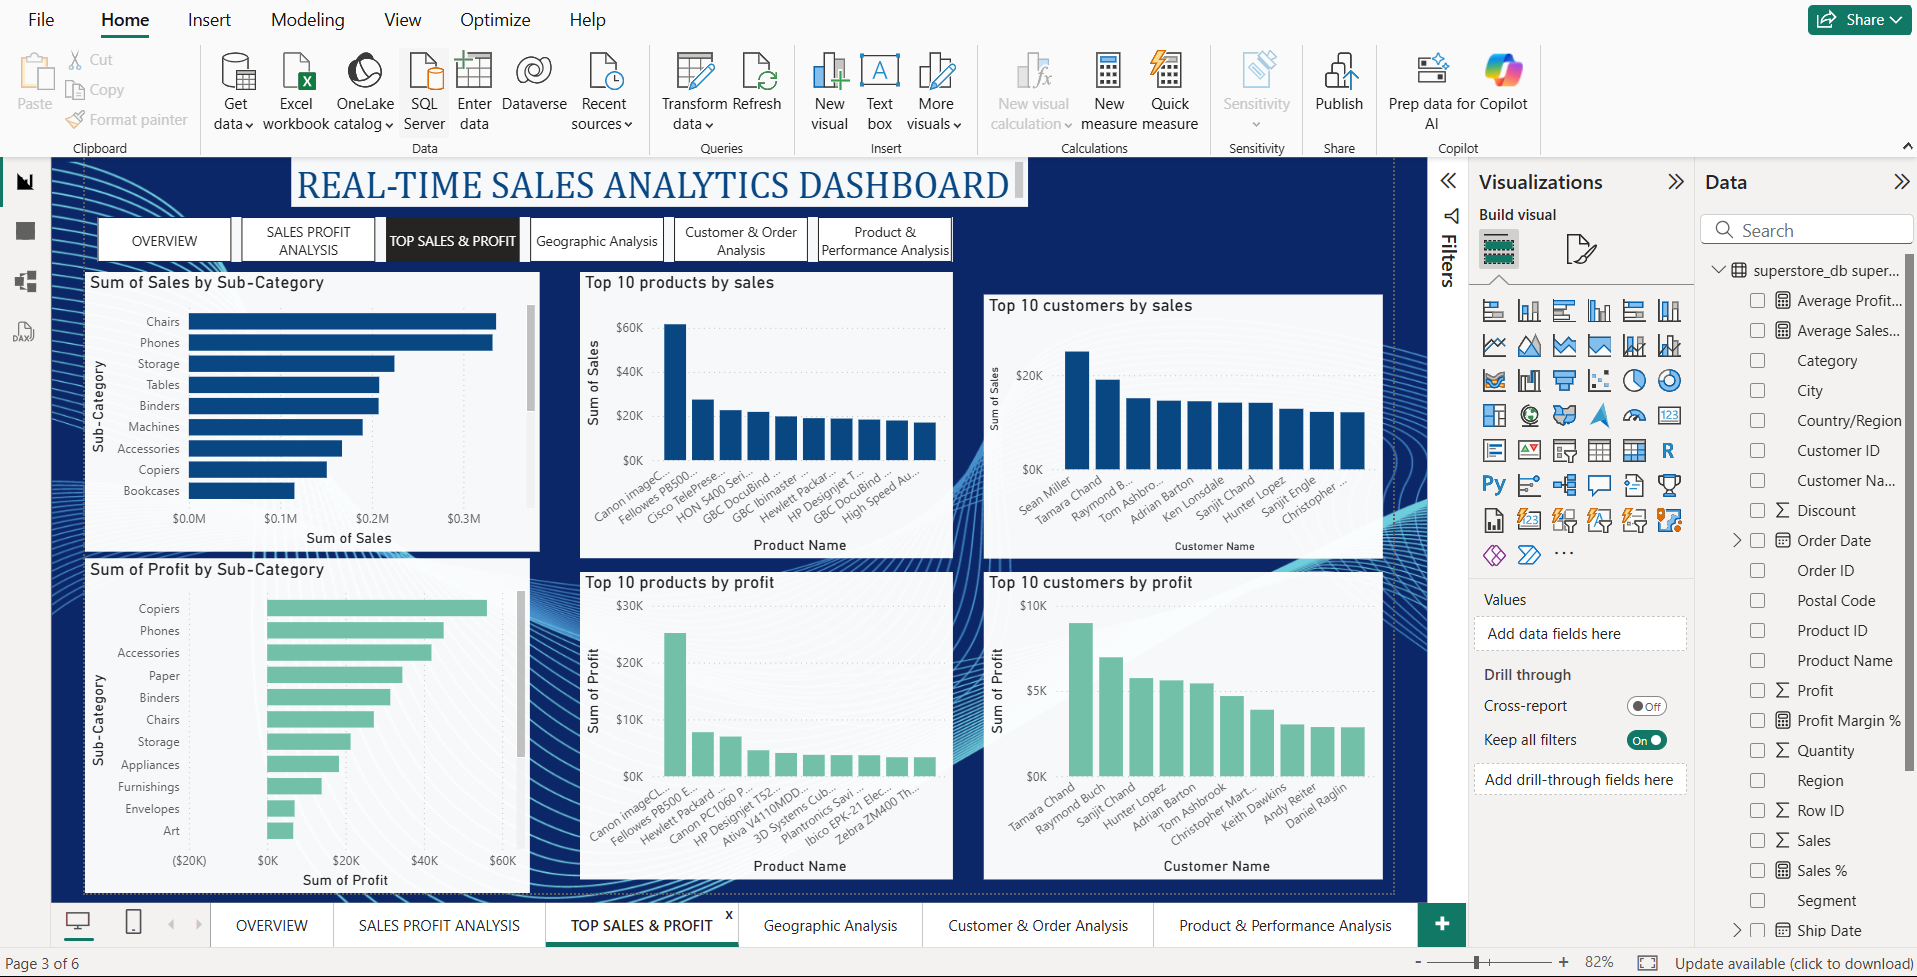

The page's visual inventory and layout, read from the dashboard file:
{"tool":"powerbi","page":{"name":"TOP SALES & PROFIT","canvas":[1280,720],"ordinal":2},"visuals":[{"type":"clusteredBarChart","fields":{"Category":["superstore_db superstore.Sub-Category"],"Y":["Sum(superstore_db superstore.Profit)"]},"box":[0,392.5,435.3,327.7],"z":0},{"type":"clusteredColumnChart","title":"Top 10 products by profit","fields":{"Category":["superstore_db superstore.Product Name"],"Y":["Sum(superstore_db superstore.Profit)"]},"box":[484.2,406,364.4,300.8],"z":1000},{"type":"clusteredBarChart","fields":{"Category":["superstore_db superstore.Sub-Category"],"Y":["Sum(superstore_db superstore.Sales)"]},"box":[0,112.5,445.1,273.9],"z":2000},{"type":"clusteredColumnChart","title":"Top 10 products by sales","fields":{"Category":["superstore_db superstore.Product Name"],"Y":["Sum(superstore_db superstore.Sales)"]},"box":[484.2,112.5,364.4,280],"z":3000},{"type":"clusteredColumnChart","title":"Top 10 customers by sales","fields":{"Category":["superstore_db superstore.Customer Name"],"Y":["Sum(superstore_db superstore.Sales)"]},"box":[879.2,134.5,390.1,258],"z":4000},{"type":"clusteredColumnChart","title":"Top 10 customers by profit","fields":{"Category":["superstore_db superstore.Customer Name"],"Y":["Sum(superstore_db superstore.Profit)"]},"box":[879.2,406,390.1,300.8],"z":5000},{"type":"textbox","box":[201.2,0,720.7,48.8],"z":6000},{"type":"pageNavigator","box":[12.2,58.7,836.4,44],"z":7000}]}

Visuals, with their boxes on the page's 1280x720 design canvas (x1, y1, x2, y2). These are canvas units, not pixel positions in the 1917x977 screenshot, which may show the page scaled, cropped or inside an application window:
clusteredBarChart - superstore_db superstore.Sub-Category x Sum(superstore_db superstore.Profit): l=0, t=392, r=435, b=720
"Top 10 products by profit" clusteredColumnChart: l=484, t=406, r=849, b=707
clusteredBarChart - superstore_db superstore.Sub-Category x Sum(superstore_db superstore.Sales): l=0, t=112, r=445, b=386
"Top 10 products by sales" clusteredColumnChart: l=484, t=112, r=849, b=392
"Top 10 customers by sales" clusteredColumnChart: l=879, t=134, r=1269, b=392
"Top 10 customers by profit" clusteredColumnChart: l=879, t=406, r=1269, b=707
textbox: l=201, t=0, r=922, b=49
pageNavigator: l=12, t=59, r=849, b=103
